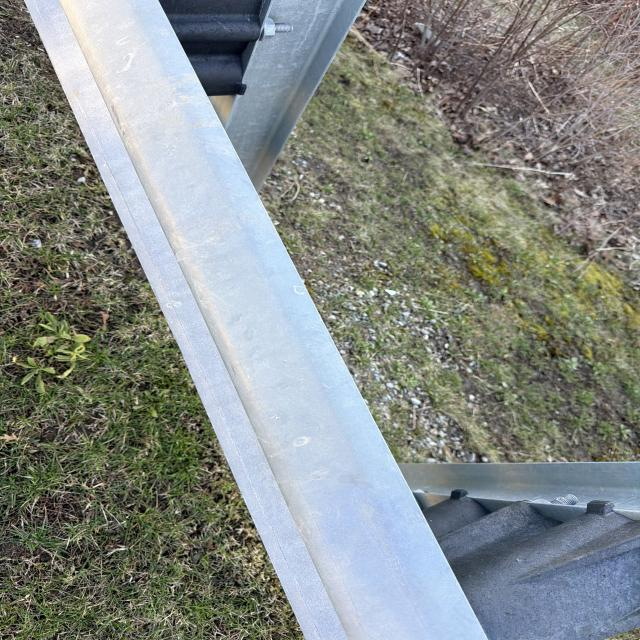Guard rail: (17, 6, 611, 525), (402, 488, 636, 637)
